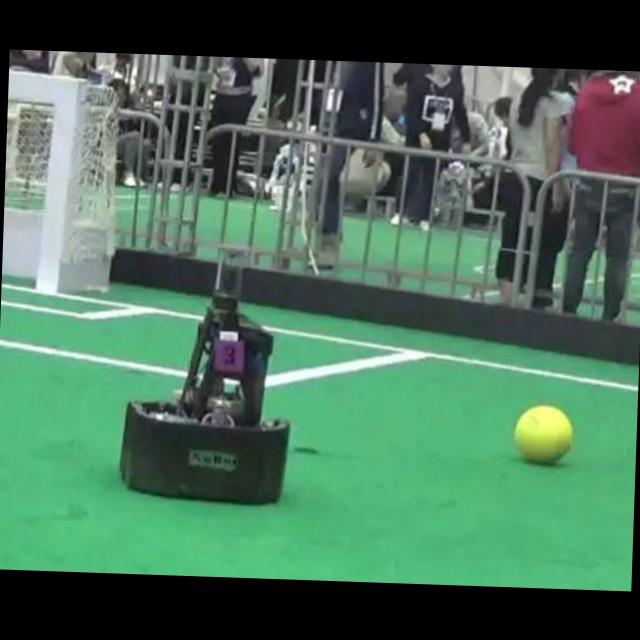ball: (513, 404, 572, 463)
goal: (36, 77, 79, 290)
robot: (120, 248, 289, 503)
